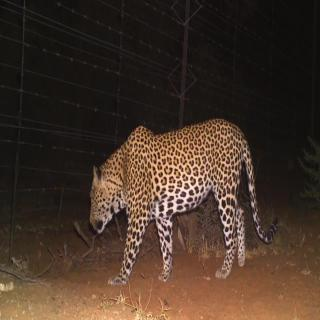Leopard: (88, 117, 280, 286)
